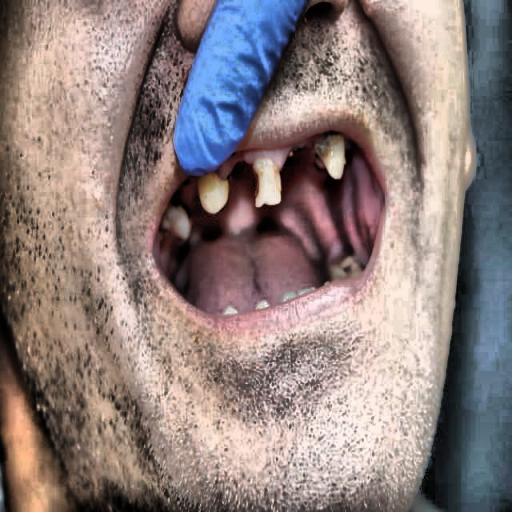Caries: (286, 119, 382, 200), (214, 130, 280, 208), (163, 173, 223, 231)
